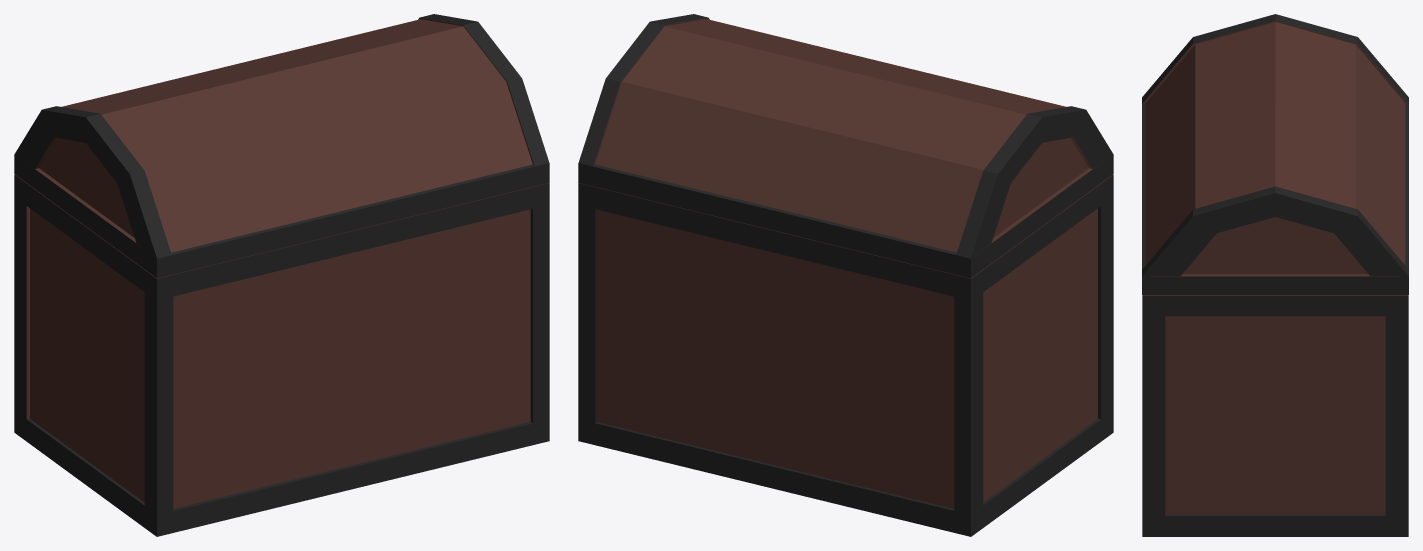
Rendered from Bau_de_Ouro.fbx.
The picture shows the model from 3 angles, left to right: view 1: azimuth 30°, elevation 25°; view 2: azimuth 150°, elevation 25°; view 3: azimuth 270°, elevation 25°; orthographic projection. The views are drawn at different scales.
Visible parts, largest first — view 1: Cube, Circle; view 2: Cube, Circle; view 3: Circle, Cube.
Boxes of the visible parts, left/top/right/bottom form: Cube: left=14, top=174, right=549, bottom=536; Circle: left=14, top=14, right=549, bottom=278; Cube: left=578, top=174, right=1113, bottom=536; Circle: left=578, top=14, right=1113, bottom=278; Circle: left=1142, top=14, right=1408, bottom=294; Cube: left=1142, top=295, right=1408, bottom=536.
Size of the model in its own units: 318 by 285 by 200.
